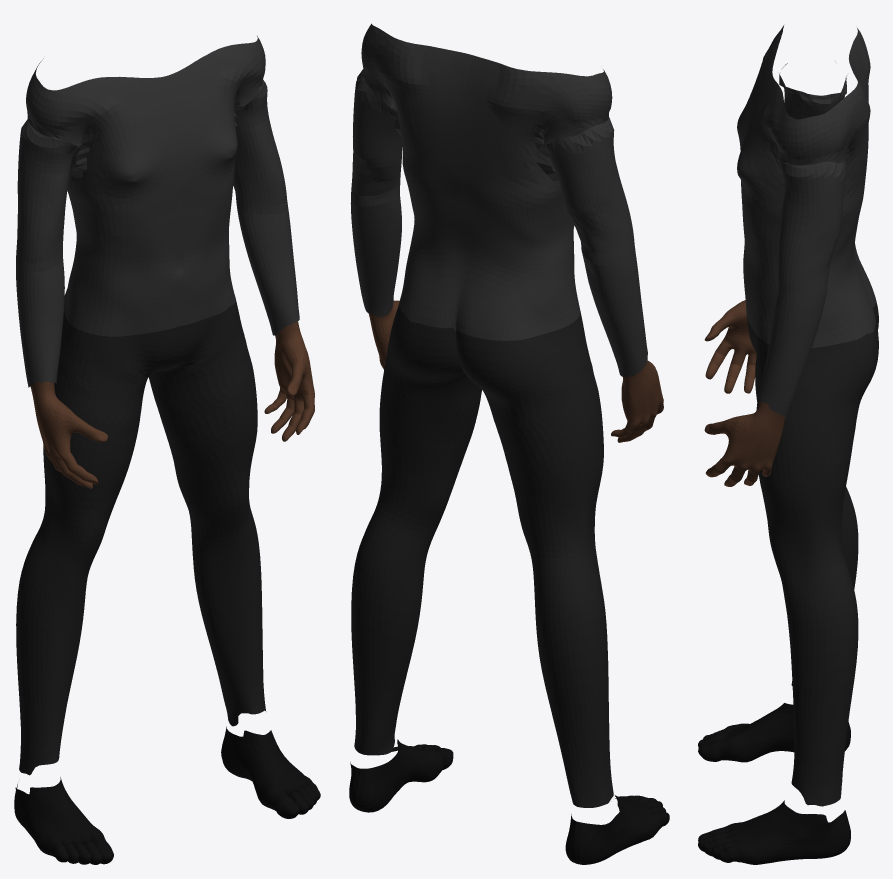
Rendered from hd_m_dark_body.glb.
3 renders of one model, left to right at view 1: azimuth 30°, elevation 25°; view 2: azimuth 150°, elevation 25°; view 3: azimuth 270°, elevation 25°, orthographic. The views are drawn at different scales.
Parts seen in each view (by area): view 1: outfit, shoes, bodyskin; view 2: outfit, shoes, bodyskin; view 3: outfit, shoes, bodyskin.
Part boxes in pixels (bbox=[...]): outfit: bbox=[16, 36, 299, 775]; shoes: bbox=[14, 726, 320, 864]; bodyskin: bbox=[30, 321, 314, 488]; outfit: bbox=[350, 23, 647, 807]; shoes: bbox=[349, 739, 669, 864]; bodyskin: bbox=[368, 300, 663, 442]; outfit: bbox=[737, 25, 878, 806]; shoes: bbox=[698, 703, 850, 864]; bodyskin: bbox=[704, 300, 785, 486].
Size of the model in its own units: 0.5311 by 1.43 by 0.3126.
